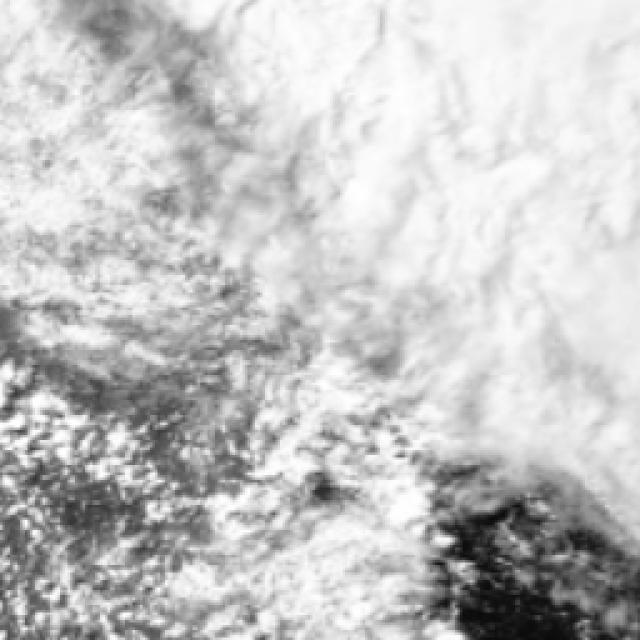CB: (345, 5, 640, 257), (468, 158, 638, 432)
